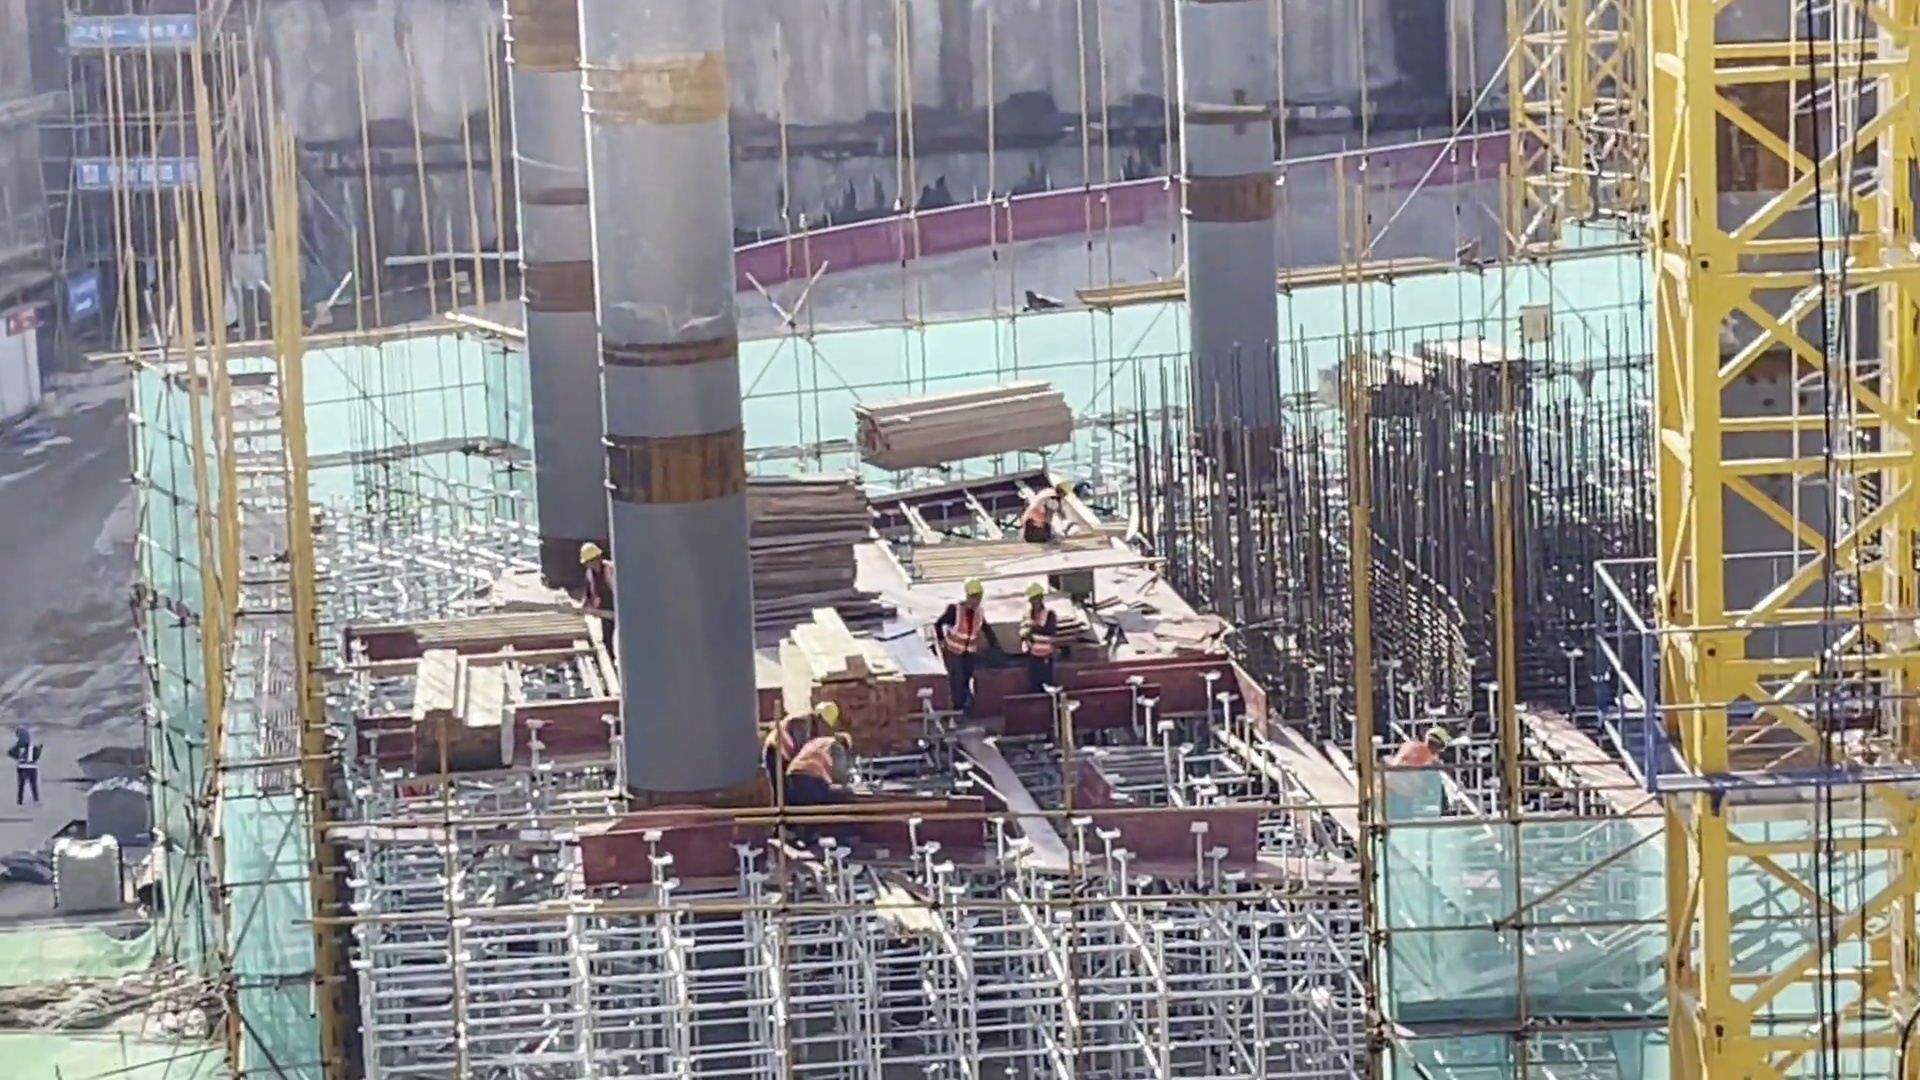cutter: (1001, 545, 1162, 611)
helmet: (1420, 724, 1449, 754), (573, 541, 606, 566), (815, 700, 840, 729), (1026, 584, 1050, 607), (963, 578, 986, 597), (1055, 477, 1075, 499)
person: (762, 698, 855, 794), (933, 579, 989, 718), (1011, 585, 1060, 693), (574, 538, 609, 658), (1020, 476, 1074, 548), (794, 735, 852, 789), (1395, 724, 1444, 787), (3, 722, 41, 801)
scaffold: (52, 833, 130, 920)
slogan: (58, 15, 195, 52), (74, 155, 207, 187)
vest: (931, 603, 980, 669), (1017, 604, 1053, 656), (1396, 744, 1435, 782), (1024, 488, 1055, 533)
wood: (853, 370, 1084, 468), (743, 481, 870, 637), (791, 610, 919, 762), (403, 651, 512, 765)
